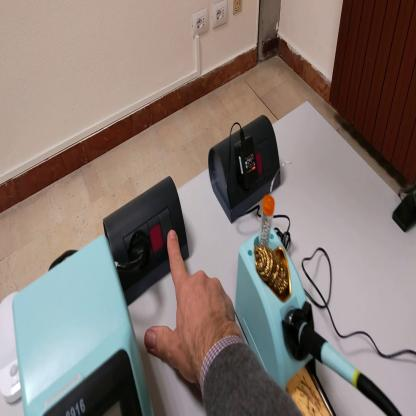hand: (146, 231, 245, 386)
socket: (103, 175, 189, 306), (211, 116, 285, 228)
welder base: (236, 195, 337, 415)
welder probe tip: (299, 321, 396, 414)
welder station: (12, 236, 155, 416)
